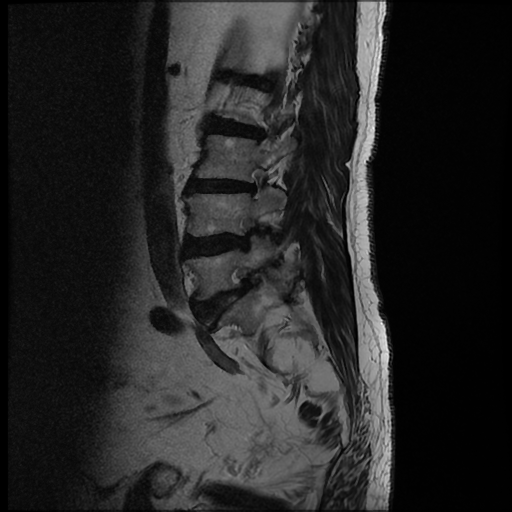RFS2: (237, 156, 273, 205)
RFS3: (229, 209, 265, 256)
